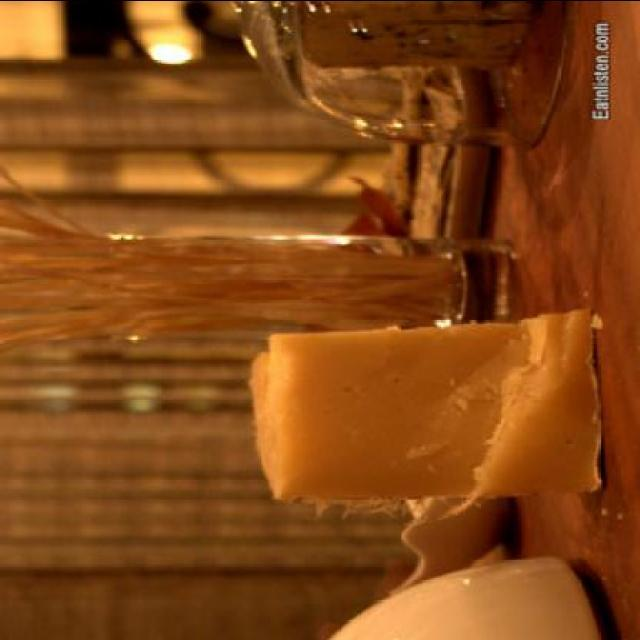Cheese: (240, 301, 602, 510)
